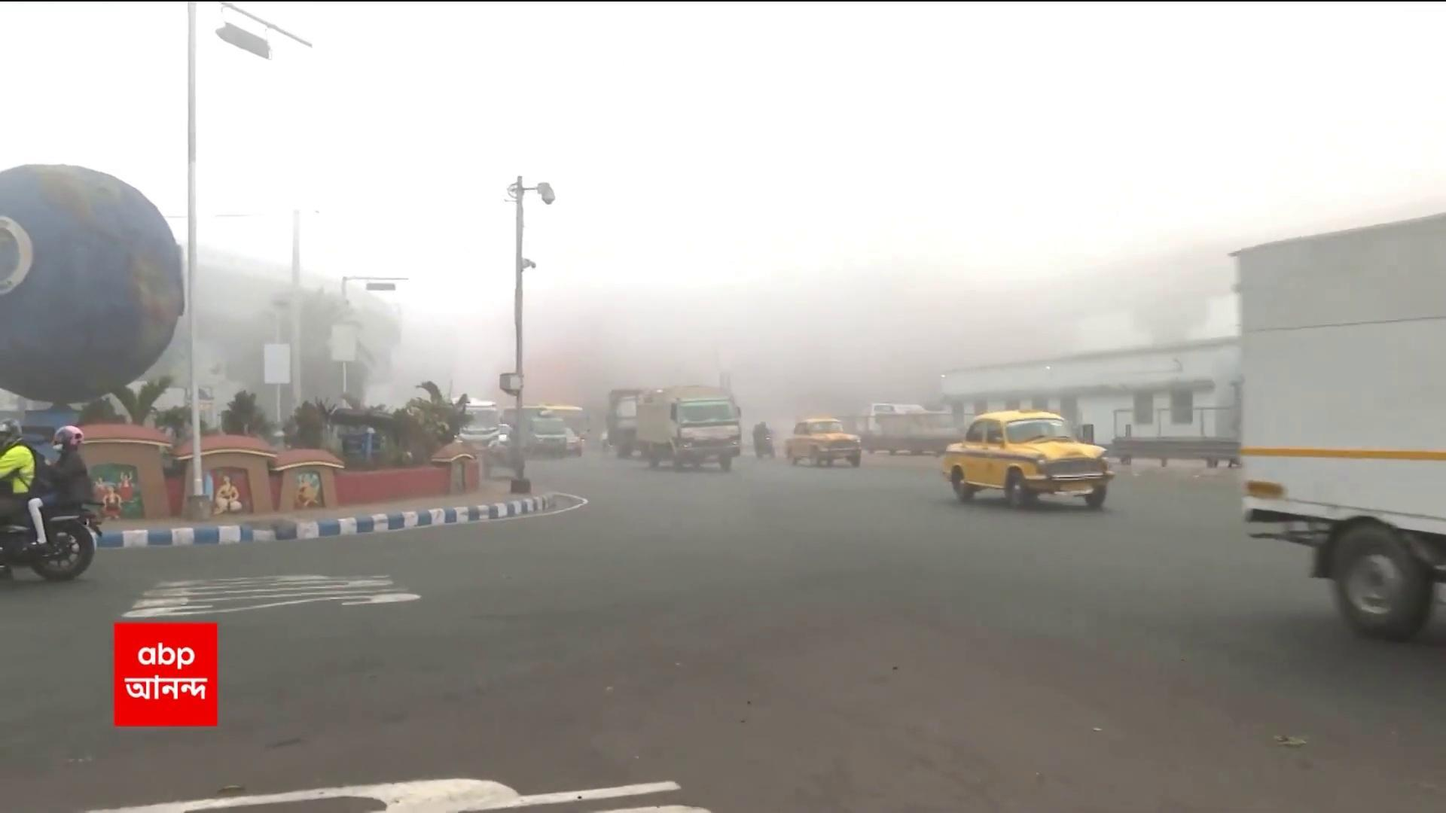Bike: (749, 420, 776, 460)
Car: (938, 406, 1117, 510), (782, 415, 864, 469)
Truck: (633, 383, 744, 472)
